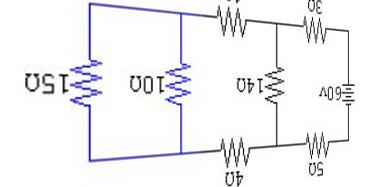resistor: (69, 53, 105, 114), (209, 128, 258, 167), (167, 54, 197, 110), (207, 5, 253, 36), (296, 13, 336, 44), (262, 61, 288, 108), (301, 128, 333, 157)
